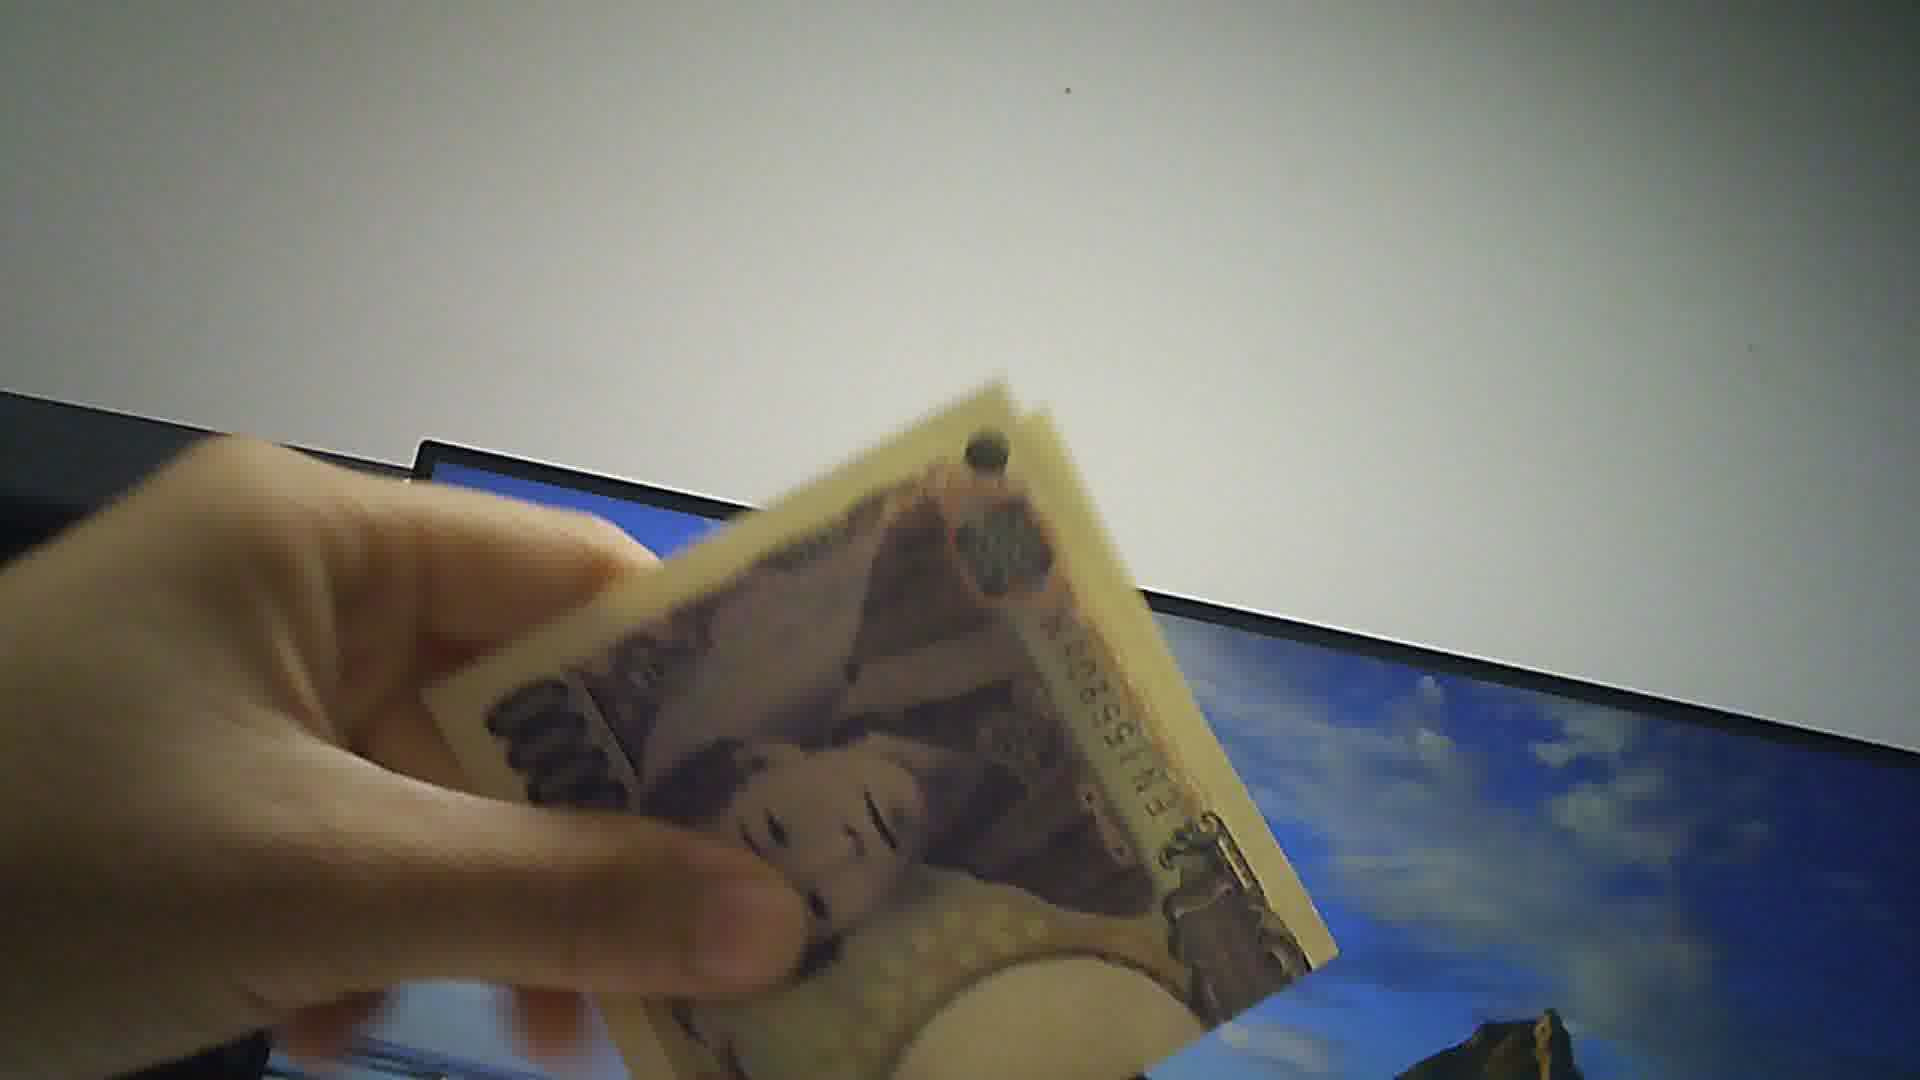5,000 Yen: (415, 367, 1324, 1075)
